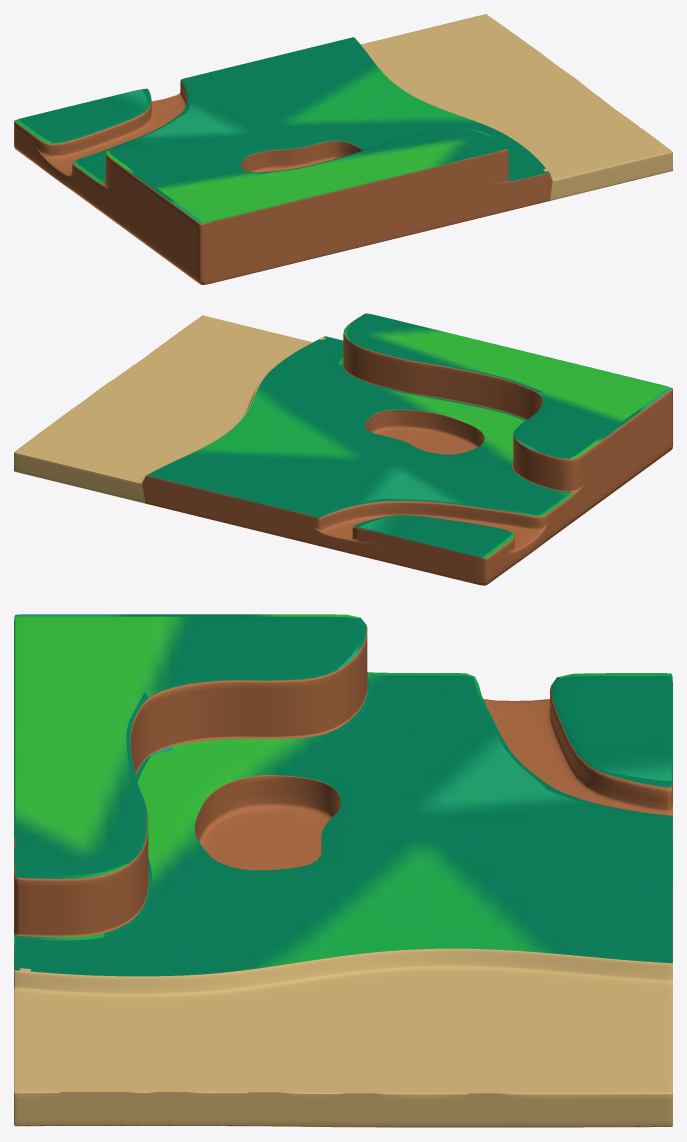
File: mapa final.fbx
The picture shows the model from 3 angles, top to bottom: view 1: azimuth 30°, elevation 25°; view 2: azimuth 150°, elevation 25°; view 3: azimuth 270°, elevation 25°; orthographic projection. The views are drawn at different scales.
Parts seen in each view (by area): view 1: mapa final; view 2: mapa final; view 3: mapa final.
Part boxes in pixels (box(x1,y1,x2,y2)): mapa final: box(14, 14, 672, 284); mapa final: box(14, 313, 672, 585); mapa final: box(14, 614, 672, 1127).
Size of the model in its own units: 3448 by 433 by 2367.
